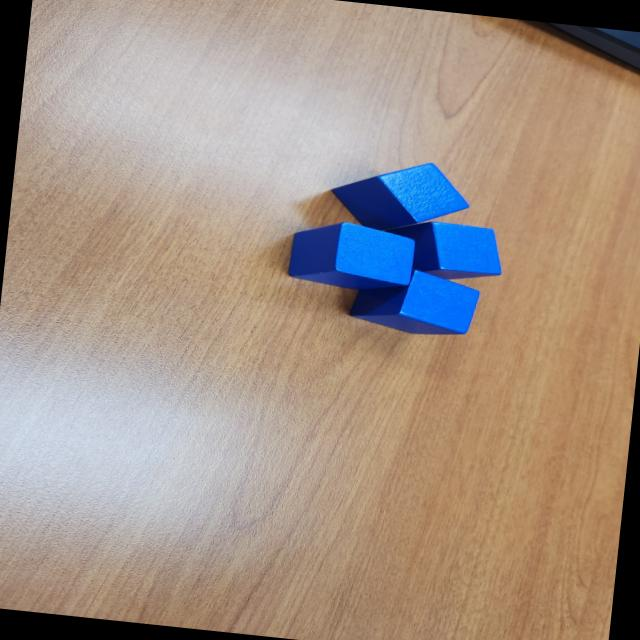blue: (328, 153, 474, 240), (347, 262, 482, 341), (286, 216, 418, 296), (378, 216, 507, 285)
